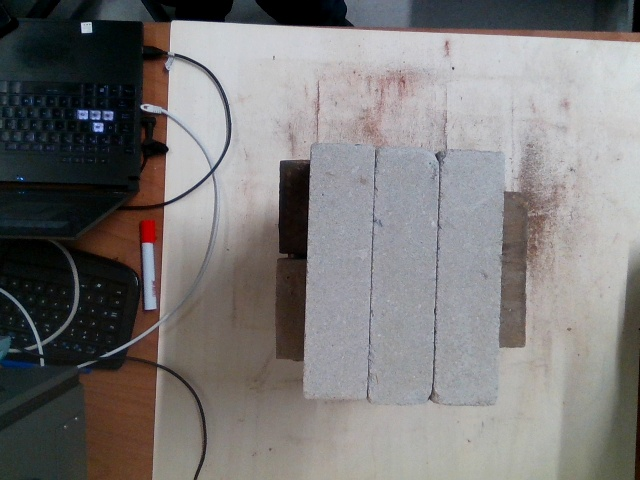brick-side: (303, 146, 375, 400), (434, 149, 505, 404), (368, 145, 439, 399)
